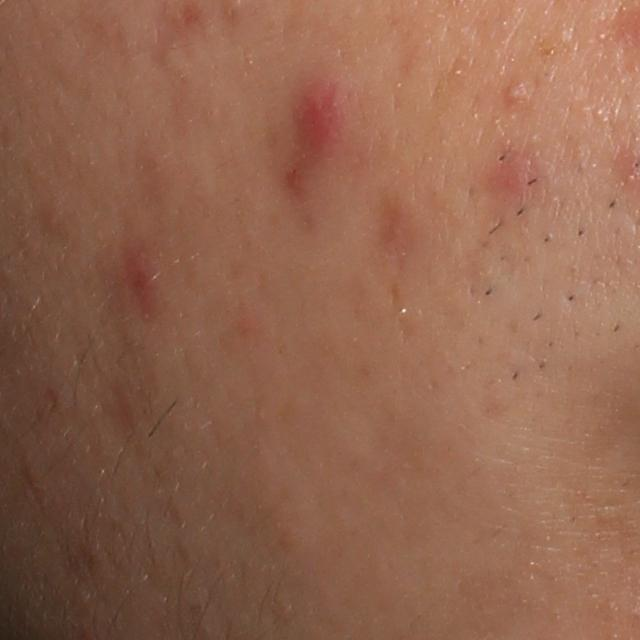papule: (285, 80, 349, 171), (121, 251, 159, 320)
